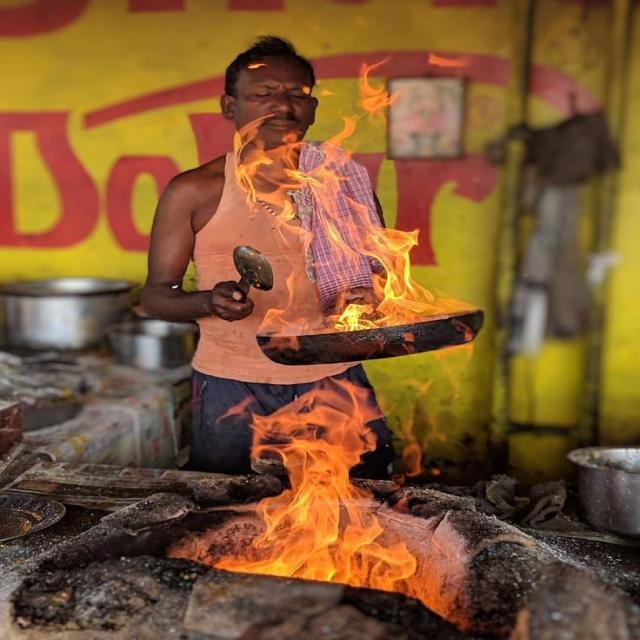fire: (213, 376, 417, 592), (257, 229, 478, 336), (235, 114, 309, 238), (258, 336, 473, 376), (309, 166, 373, 241), (417, 377, 461, 475), (358, 57, 399, 123), (319, 116, 357, 166)
